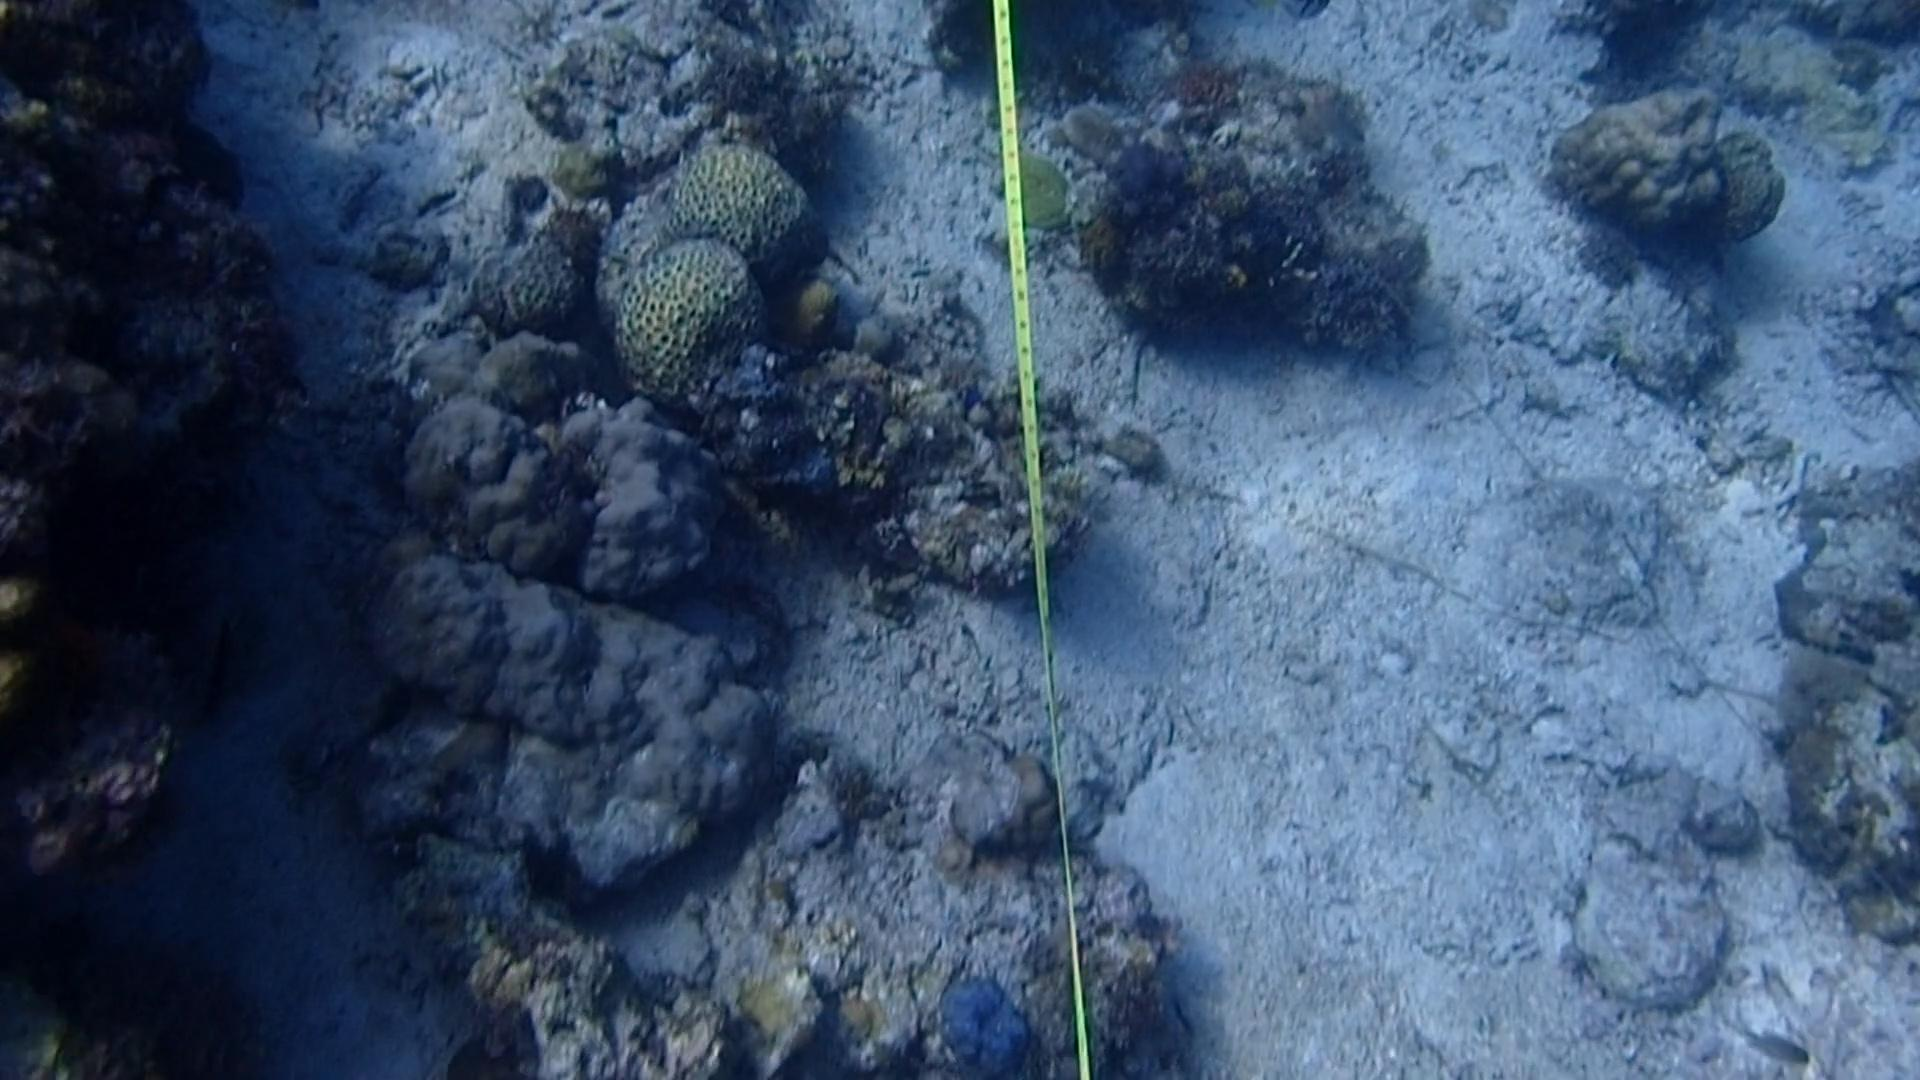Light Fish: (1724, 1005, 1818, 1067)
